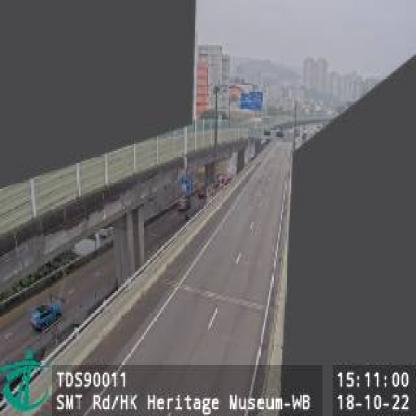Car: (28, 298, 64, 334)
